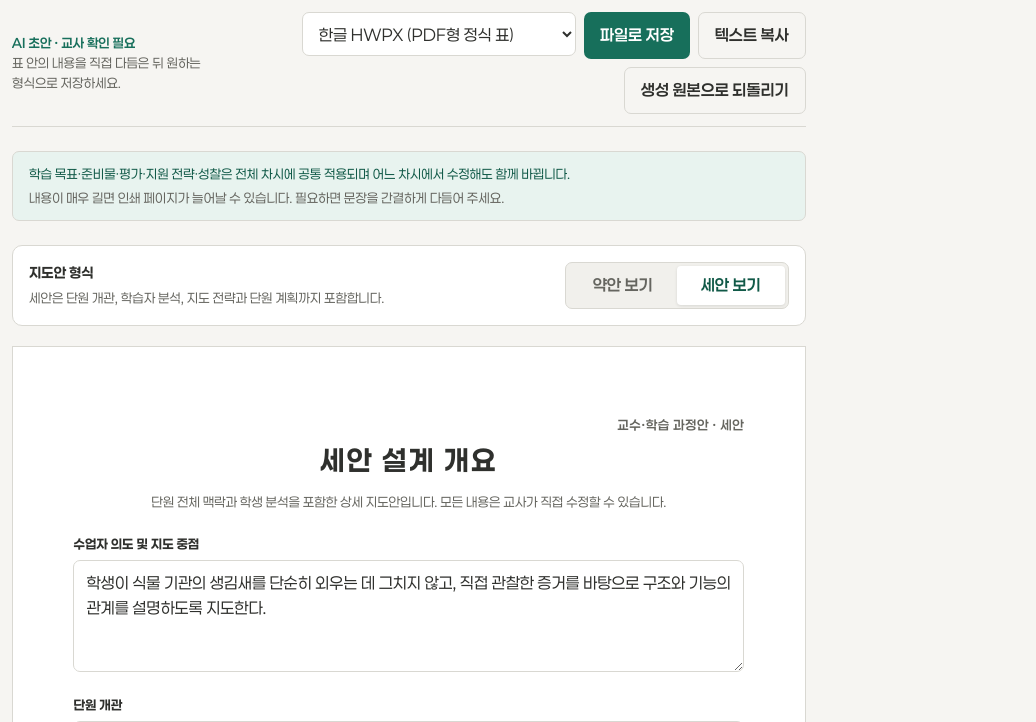
Test: copies every editable lesson-plan field and announces success
The width and height of the screenshot is (1036, 722).
Click the button "텍스트 복사".
click(752, 35)  # box [698,12,806,59]
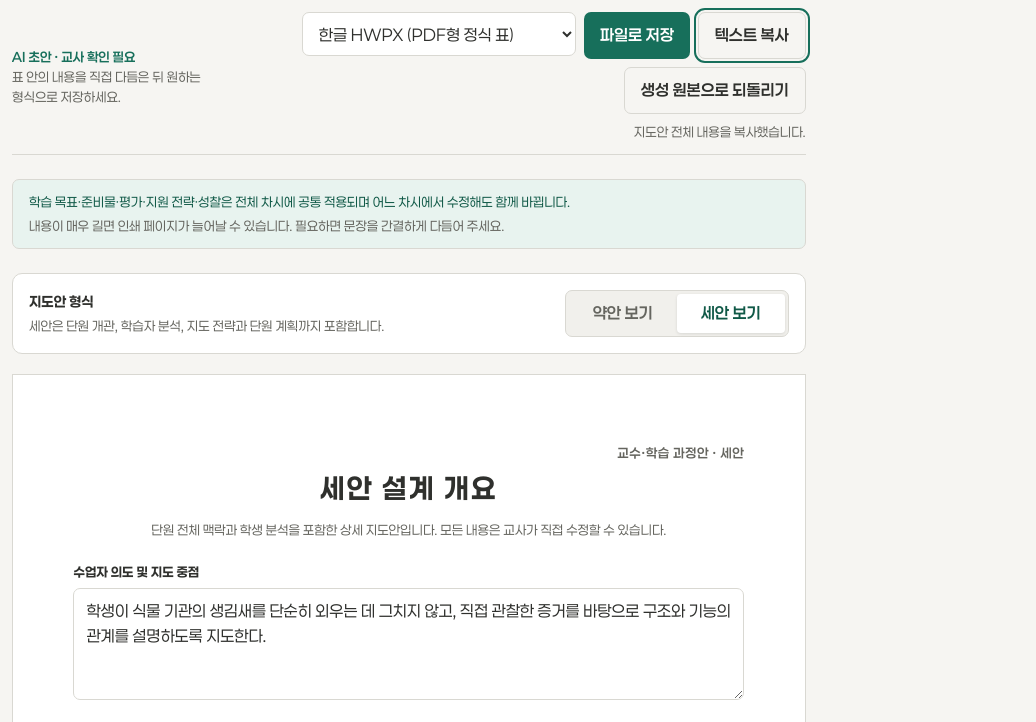
Now the message reads "지도안 전체 내용을 복사했습니다.", box [634,124,806,140]
